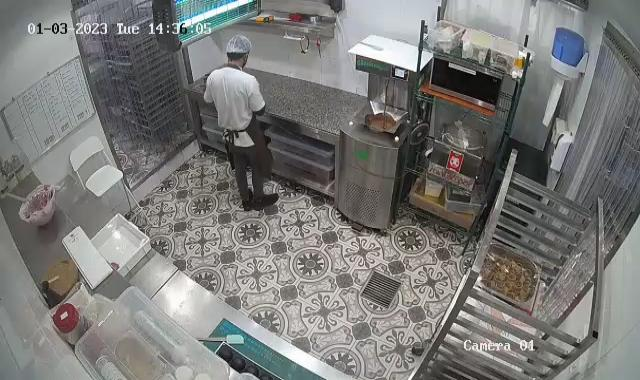hairnet: (224, 35, 251, 58)
